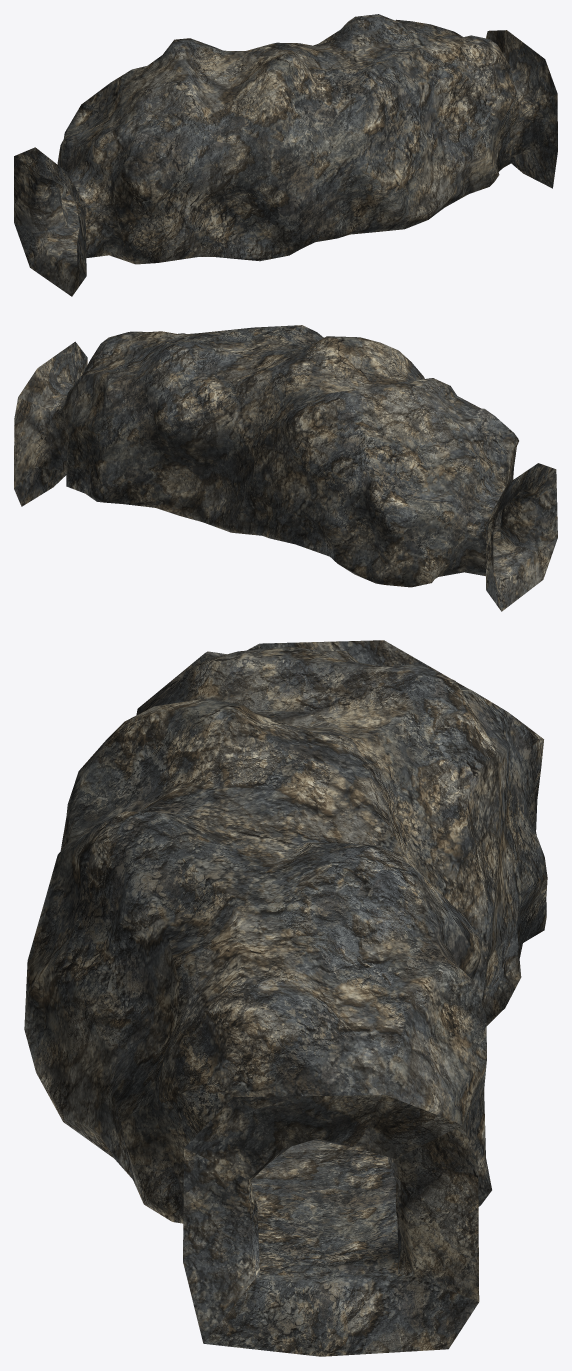
File: Module19.fbx
The picture shows the model from 3 angles, top to bottom: view 1: azimuth 30°, elevation 25°; view 2: azimuth 150°, elevation 25°; view 3: azimuth 270°, elevation 25°; orthographic projection. The views are drawn at different scales.
Parts seen in each view (by area): view 1: cave_el19_1300_Group50933; view 2: cave_el19_1300_Group50933; view 3: cave_el19_1300_Group50933.
Part boxes in pixels (left/top/right/bottom): cave_el19_1300_Group50933: left=14, top=14, right=557, bottom=296; cave_el19_1300_Group50933: left=14, top=325, right=557, bottom=611; cave_el19_1300_Group50933: left=24, top=640, right=547, bottom=1356.
Size of the model in its own units: 30.76 by 12.37 by 14.85.
